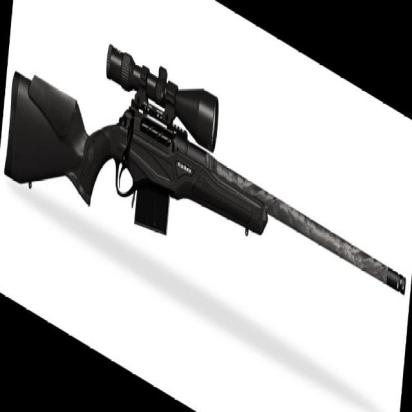Gun: (2, 56, 411, 300)
